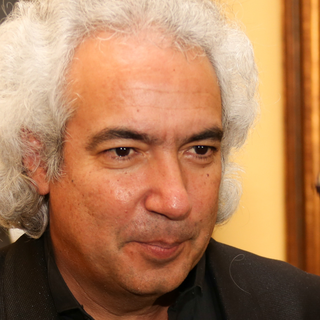eye: (181, 136, 225, 164), (98, 140, 146, 164)
